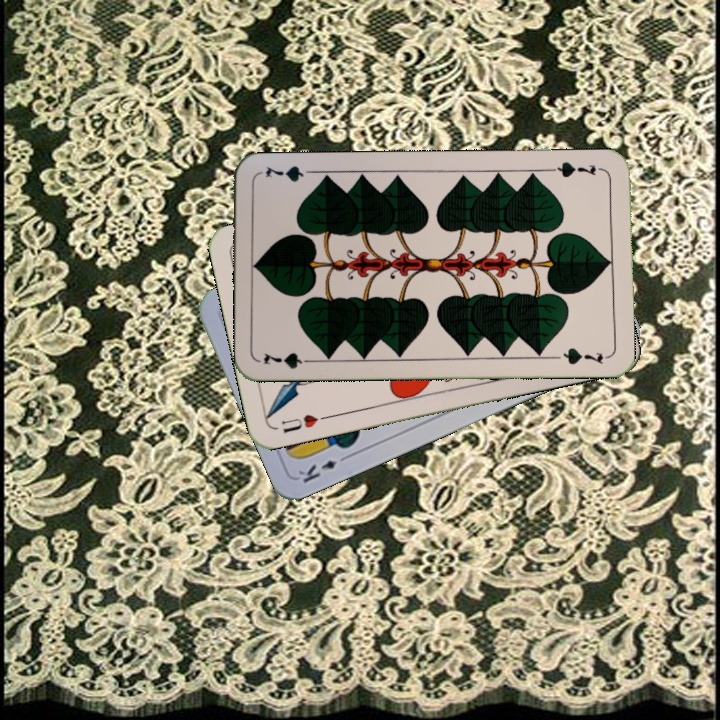EK: (294, 450, 352, 486)
G7: (259, 348, 318, 371), (547, 157, 598, 180)
HU: (277, 410, 331, 436)
